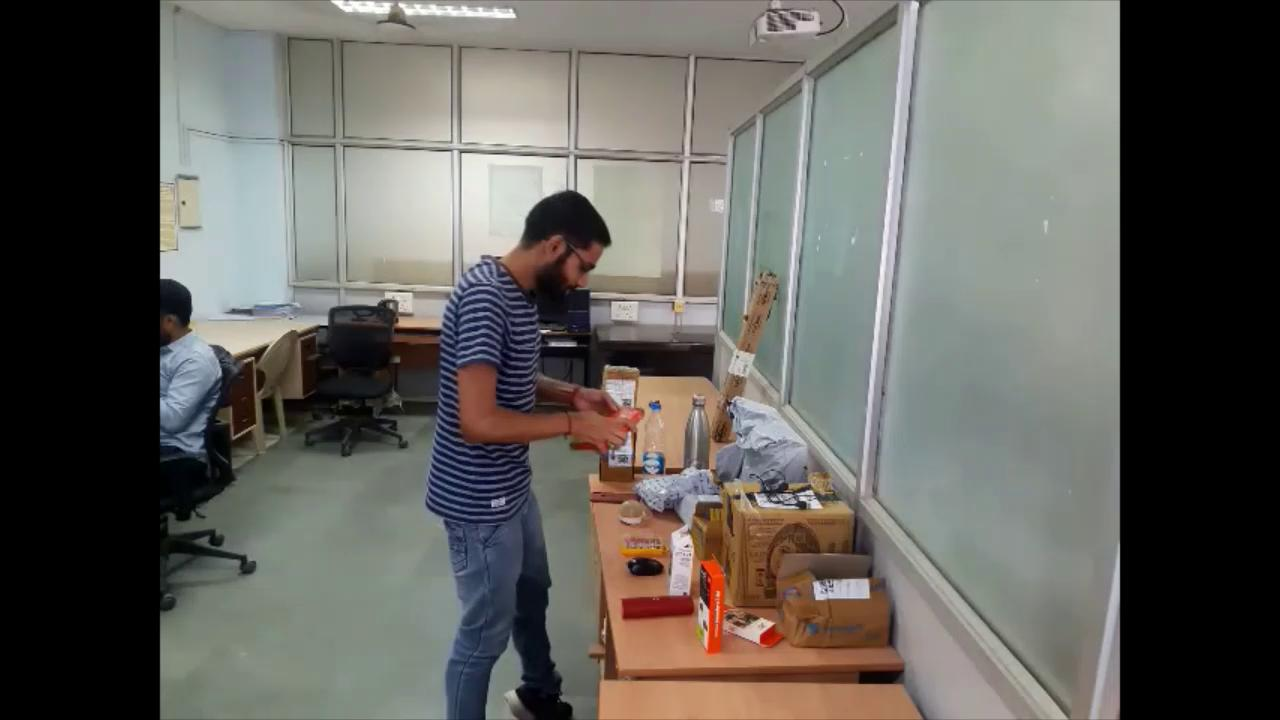Normal: (419, 162, 649, 715)
